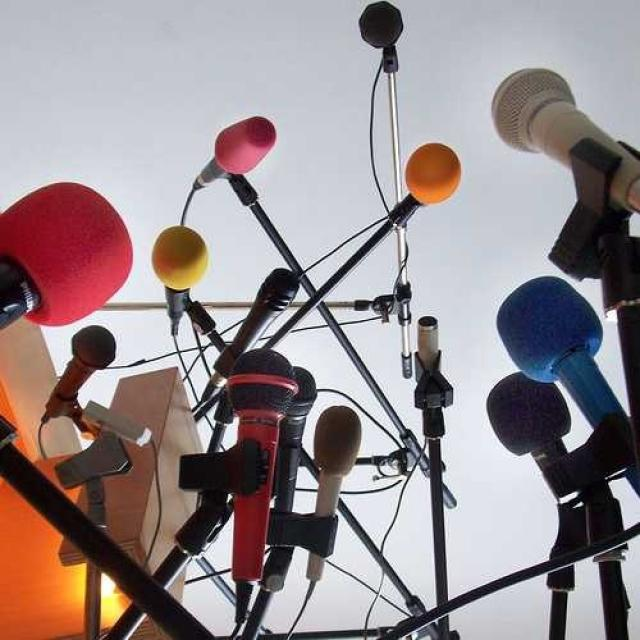microphone: (494, 276, 634, 506), (177, 346, 307, 554), (492, 67, 638, 226), (2, 170, 133, 337), (474, 367, 574, 501), (302, 406, 361, 585), (40, 324, 117, 432), (381, 144, 463, 234), (194, 116, 277, 194), (155, 235, 204, 332), (415, 310, 453, 414), (358, 0, 404, 52), (255, 267, 299, 316), (72, 324, 116, 369)
